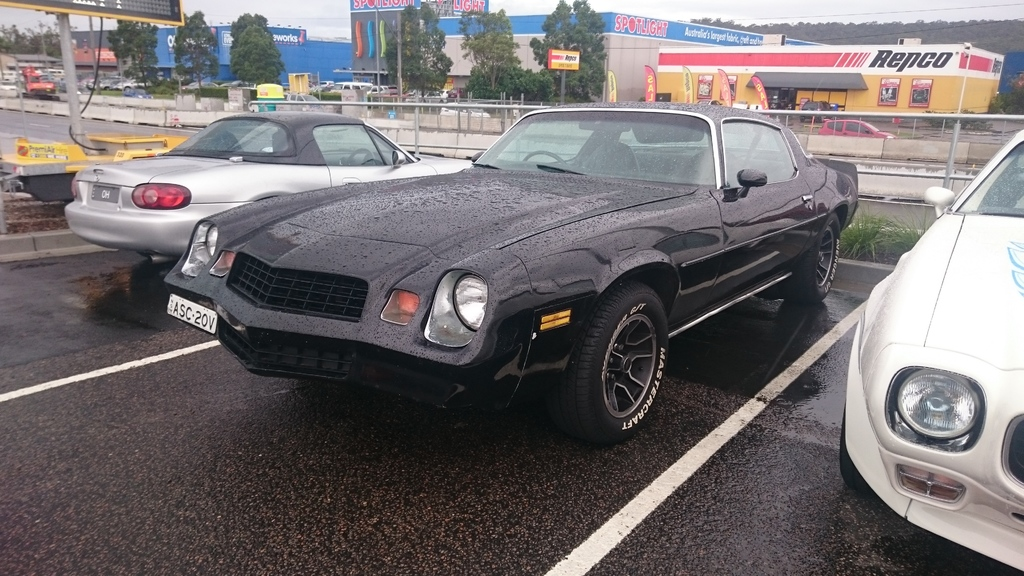Car: (82, 88, 865, 436), (857, 125, 1023, 575), (65, 104, 478, 260)
